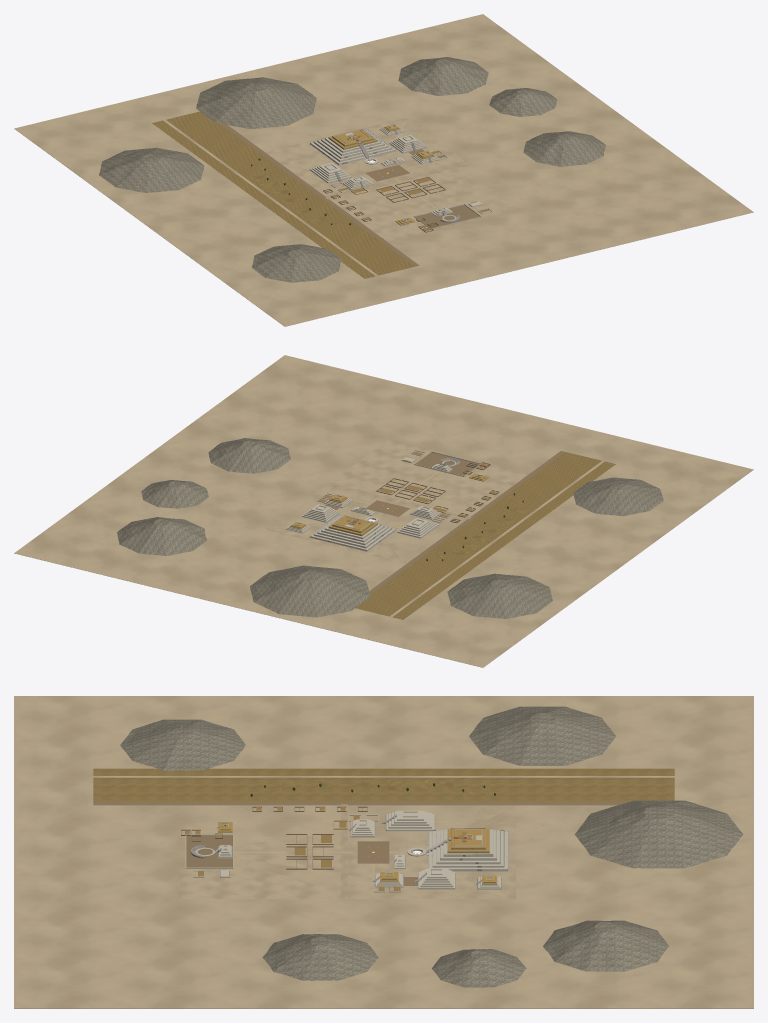
Rendered from caral_site_lod1.glb.
The picture shows the model from 3 angles, top to bottom: view 1: azimuth 30°, elevation 25°; view 2: azimuth 150°, elevation 25°; view 3: azimuth 270°, elevation 25°; orthographic projection. The views are drawn at different scales.
Visible parts, largest first — view 1: GEO-Caral_LOD1_Infra_Terrain, GEO-Caral_LOD1_Infra_UpperHalf, GEO-Caral_LOD1_Mayor, GEO-Caral_LOD1_Infra_Residential, GEO-Caral_LOD1_Anfiteatro; view 2: GEO-Caral_LOD1_Infra_Terrain, GEO-Caral_LOD1_Infra_UpperHalf, GEO-Caral_LOD1_Mayor, GEO-Caral_LOD1_Infra_Residential, GEO-Caral_LOD1_Anfiteatro; view 3: GEO-Caral_LOD1_Infra_Terrain, GEO-Caral_LOD1_Infra_UpperHalf, GEO-Caral_LOD1_Mayor, GEO-Caral_LOD1_Anfiteatro, GEO-Caral_LOD1_Infra_Residential.
Boxes of the visible parts, x1,y1,x2,y2 form: GEO-Caral_LOD1_Infra_Terrain: (14, 14, 753, 326); GEO-Caral_LOD1_Infra_UpperHalf: (309, 124, 439, 190); GEO-Caral_LOD1_Mayor: (309, 128, 396, 165); GEO-Caral_LOD1_Infra_Residential: (323, 150, 447, 221); GEO-Caral_LOD1_Anfiteatro: (414, 204, 481, 228); GEO-Caral_LOD1_Infra_Terrain: (14, 355, 753, 667); GEO-Caral_LOD1_Infra_UpperHalf: (285, 494, 440, 538); GEO-Caral_LOD1_Mayor: (309, 515, 396, 551); GEO-Caral_LOD1_Infra_Residential: (317, 478, 498, 523); GEO-Caral_LOD1_Anfiteatro: (414, 451, 481, 476); GEO-Caral_LOD1_Infra_Terrain: (14, 696, 753, 1008); GEO-Caral_LOD1_Infra_UpperHalf: (349, 810, 501, 889); GEO-Caral_LOD1_Mayor: (426, 828, 508, 871); GEO-Caral_LOD1_Anfiteatro: (185, 834, 233, 868); GEO-Caral_LOD1_Infra_Residential: (252, 806, 401, 892).
Bounding box in the file's own units: 1400 × 51.7 × 1400.
23 materials, 17 textured.
